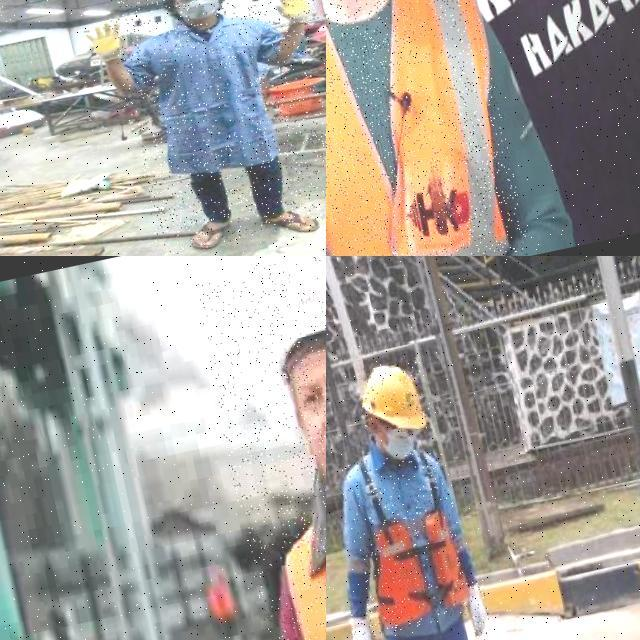helmet: (252, 256, 326, 383), (354, 356, 434, 440)
vest: (326, 0, 530, 256), (337, 444, 477, 635)
